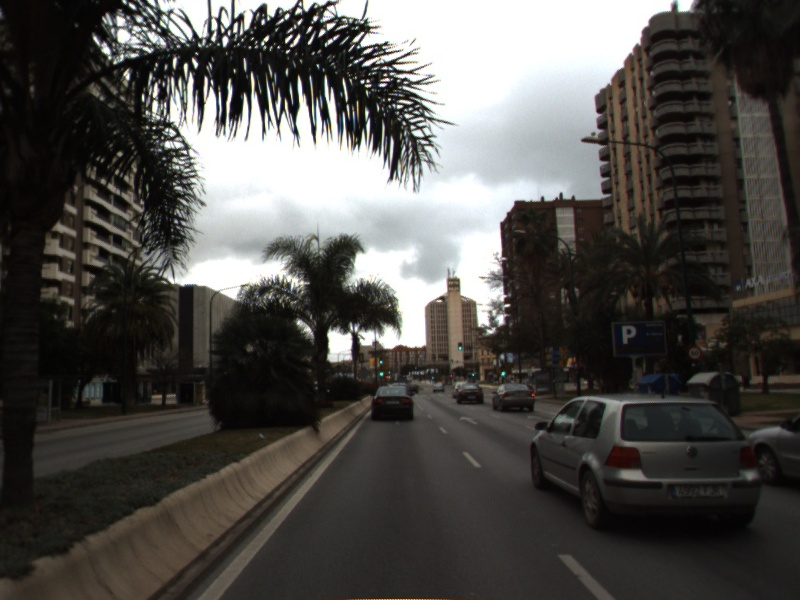STRAIGHT: (458, 414, 480, 425), (525, 412, 549, 422)
